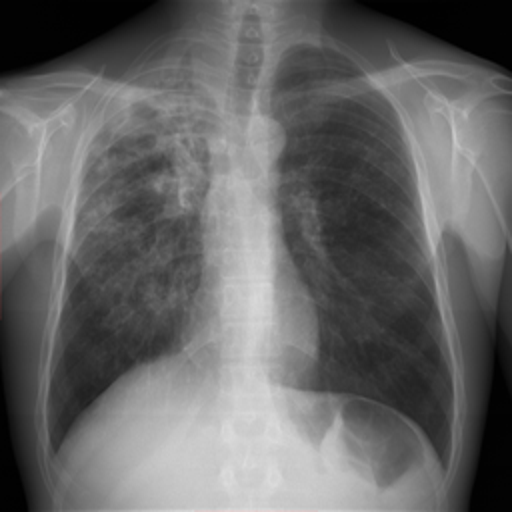TB: (84, 76, 210, 222)
